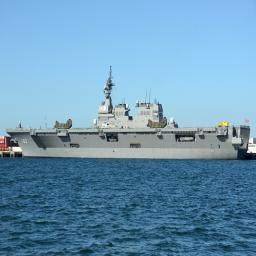Portanaves: (5, 63, 252, 163)
